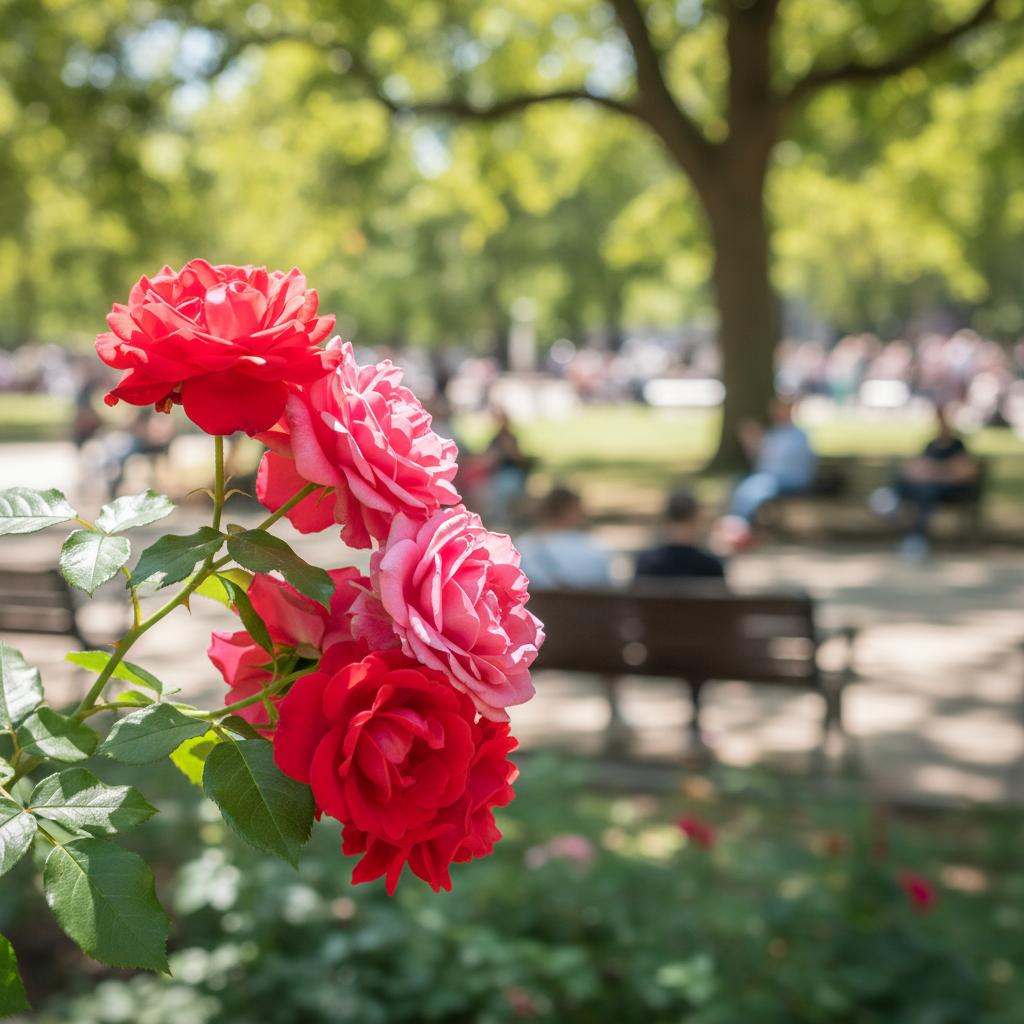rose: (90, 223, 550, 905)
